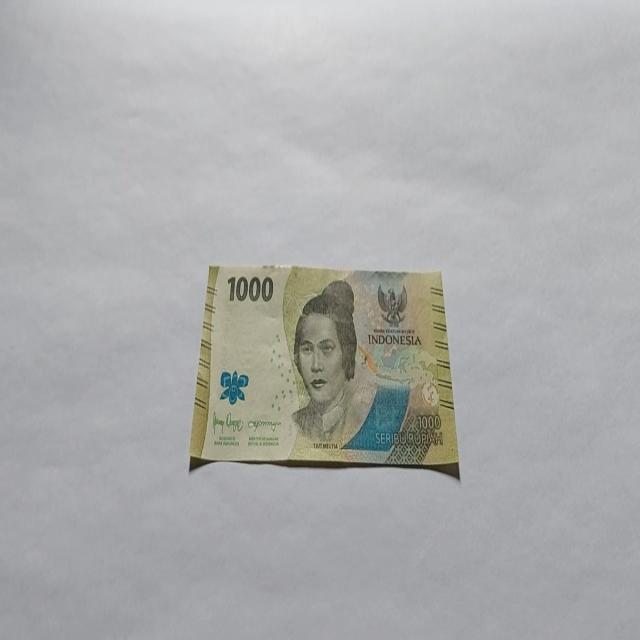seribu rupiah kertas: (188, 262, 460, 478)
